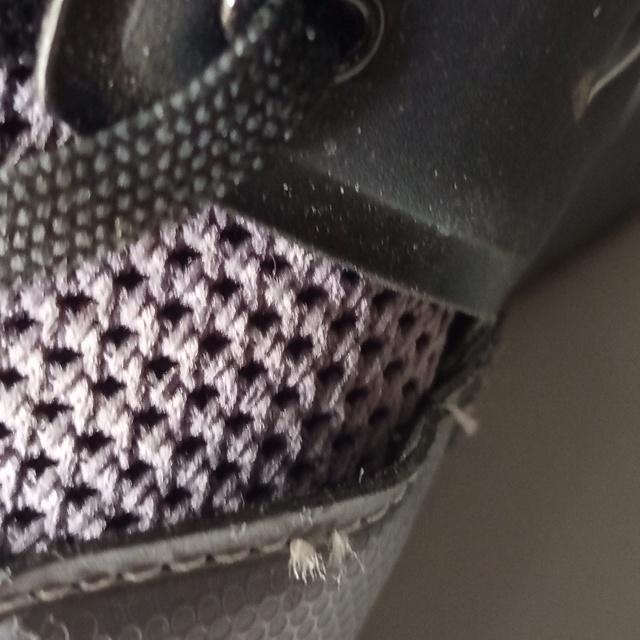broken-error: (286, 511, 379, 595)
